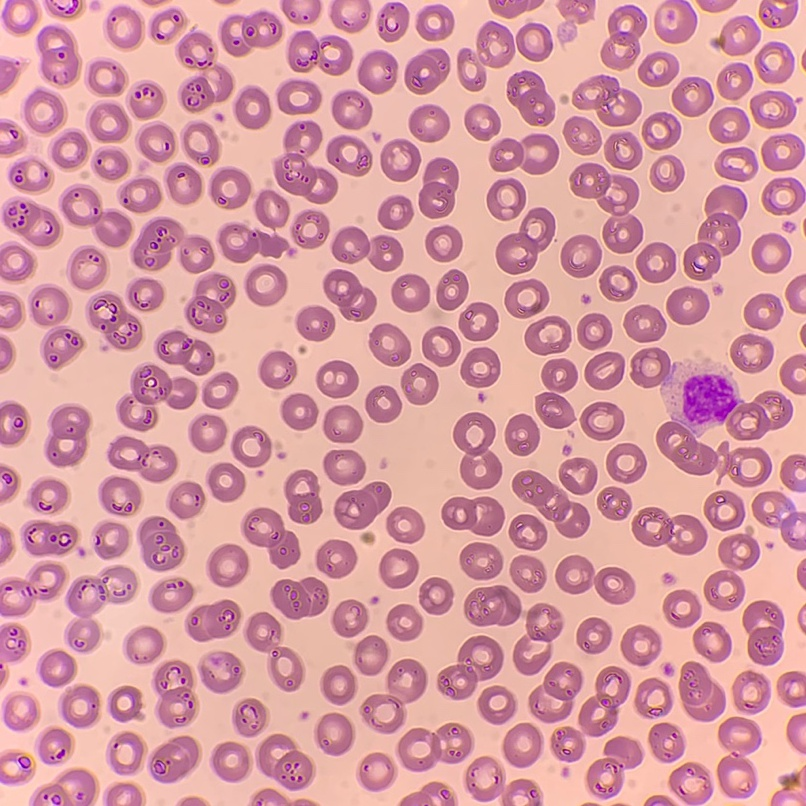RBC: (657, 370, 792, 486), (551, 667, 630, 761), (571, 163, 642, 252), (66, 566, 136, 652), (684, 186, 746, 280), (117, 365, 197, 430), (274, 121, 337, 203), (513, 471, 589, 537), (361, 659, 426, 733), (245, 612, 304, 690), (132, 217, 213, 272), (177, 31, 232, 111), (61, 186, 131, 246), (437, 636, 502, 699), (457, 22, 514, 90), (496, 208, 554, 273), (556, 556, 634, 603), (398, 723, 473, 771), (466, 757, 541, 805), (454, 413, 501, 488), (513, 604, 562, 674), (632, 508, 706, 554), (242, 508, 299, 567), (587, 737, 642, 798), (573, 76, 640, 126), (0, 564, 64, 616), (256, 734, 314, 790), (529, 663, 582, 722), (88, 292, 142, 349), (108, 436, 176, 481), (753, 491, 805, 549), (332, 227, 402, 270), (185, 274, 235, 332), (601, 5, 646, 68), (154, 661, 196, 727), (288, 31, 352, 74), (220, 11, 282, 55), (490, 134, 558, 174), (679, 662, 725, 721), (219, 223, 287, 262), (334, 482, 390, 529), (323, 270, 375, 320), (155, 330, 214, 374), (46, 406, 89, 466), (3, 200, 59, 246), (743, 601, 783, 665), (507, 71, 554, 125), (37, 25, 80, 84), (138, 516, 184, 570), (29, 769, 96, 805), (149, 736, 200, 782), (442, 497, 503, 535), (419, 158, 458, 217), (271, 578, 328, 618), (464, 585, 521, 625), (186, 600, 240, 641), (405, 49, 449, 94), (285, 470, 321, 523), (712, 16, 760, 55), (22, 521, 77, 555), (631, 348, 673, 391), (24, 88, 64, 133), (199, 652, 243, 692), (655, 0, 696, 42), (669, 763, 711, 804), (327, 136, 371, 175), (503, 723, 542, 767), (525, 316, 570, 354), (369, 324, 410, 365), (561, 235, 601, 277), (43, 326, 83, 368), (208, 544, 248, 586), (358, 50, 397, 93), (750, 91, 795, 128), (245, 265, 286, 305), (60, 685, 99, 727), (210, 168, 250, 208), (755, 42, 794, 83), (315, 713, 354, 754), (719, 717, 760, 756), (381, 139, 419, 181), (731, 334, 773, 372), (99, 477, 141, 515), (107, 732, 145, 774), (505, 280, 548, 317), (672, 77, 712, 116), (89, 103, 129, 142), (232, 426, 271, 466), (704, 570, 743, 610), (211, 742, 251, 781), (581, 402, 623, 439), (762, 178, 805, 214), (70, 246, 106, 289), (332, 90, 371, 129), (636, 243, 675, 282), (621, 626, 660, 665), (487, 179, 525, 219), (30, 285, 68, 325), (704, 491, 744, 529), (667, 287, 708, 324), (733, 672, 770, 713), (234, 86, 270, 128), (762, 134, 804, 170), (460, 543, 502, 579), (277, 80, 321, 114), (422, 327, 460, 366), (461, 347, 499, 386), (607, 443, 645, 482), (316, 540, 356, 577), (558, 0, 594, 41), (624, 305, 665, 341), (106, 6, 141, 48), (183, 122, 218, 164), (150, 578, 193, 612), (752, 234, 790, 272), (585, 352, 624, 389), (323, 405, 362, 442), (380, 549, 417, 588), (694, 622, 731, 661), (635, 679, 672, 718), (718, 758, 755, 797), (409, 105, 449, 141), (317, 361, 357, 397), (401, 364, 437, 404), (642, 112, 680, 149), (459, 303, 497, 340), (207, 463, 244, 501), (478, 686, 516, 723), (166, 163, 201, 203), (719, 534, 759, 569), (120, 178, 161, 212), (324, 450, 365, 484), (9, 159, 52, 191), (604, 132, 641, 169), (392, 274, 429, 311), (259, 351, 296, 388), (189, 415, 226, 452), (292, 210, 328, 248), (710, 107, 749, 142), (52, 129, 87, 168), (505, 415, 539, 455), (716, 147, 757, 180), (516, 23, 552, 60), (564, 117, 600, 154), (138, 124, 174, 161), (536, 392, 573, 428), (559, 458, 596, 494), (664, 590, 700, 627), (126, 627, 163, 663), (39, 650, 76, 686), (359, 753, 395, 790), (88, 61, 126, 96), (744, 294, 782, 329), (321, 666, 356, 704), (639, 52, 678, 86), (649, 723, 683, 762), (365, 386, 401, 422), (29, 479, 67, 513), (401, 782, 456, 805), (417, 5, 453, 40), (717, 63, 752, 99), (0, 245, 35, 281), (281, 394, 317, 429), (169, 482, 204, 518), (387, 507, 423, 542), (510, 556, 545, 592), (332, 600, 367, 636), (37, 728, 72, 764), (129, 81, 163, 118), (297, 306, 334, 340), (509, 515, 546, 549), (354, 636, 387, 674), (331, 0, 370, 32), (426, 226, 461, 261), (202, 373, 237, 408), (387, 605, 422, 640), (465, 104, 499, 140), (255, 190, 288, 227), (233, 699, 266, 736), (436, 270, 467, 309), (600, 266, 635, 300), (577, 618, 611, 653), (650, 155, 683, 191), (95, 522, 128, 558), (378, 2, 408, 41), (4, 696, 38, 730), (2, 0, 37, 33), (420, 578, 452, 614), (0, 402, 27, 444), (378, 196, 412, 229), (578, 314, 611, 348), (128, 278, 163, 310), (108, 686, 140, 721), (150, 9, 183, 42), (542, 359, 576, 391), (93, 149, 128, 179), (759, 0, 797, 27), (598, 487, 630, 519), (0, 752, 32, 784), (780, 355, 805, 394), (0, 624, 26, 661), (778, 672, 805, 706), (0, 119, 26, 154), (281, 0, 320, 23), (489, 0, 541, 17), (781, 455, 805, 491), (105, 783, 142, 805), (0, 56, 20, 93), (786, 275, 805, 313), (0, 465, 18, 502), (251, 789, 289, 805), (51, 2, 82, 18), (787, 714, 805, 741), (0, 338, 14, 370), (0, 527, 13, 561), (0, 310, 21, 328), (699, 0, 733, 11), (781, 772, 800, 790), (646, 795, 672, 805), (0, 292, 18, 306), (797, 562, 805, 585), (181, 797, 203, 805), (294, 800, 311, 805), (363, 533, 372, 542), (664, 666, 673, 674), (784, 222, 792, 230), (771, 798, 780, 805), (147, 0, 158, 4), (801, 329, 805, 340), (801, 513, 805, 522), (0, 670, 4, 679)
